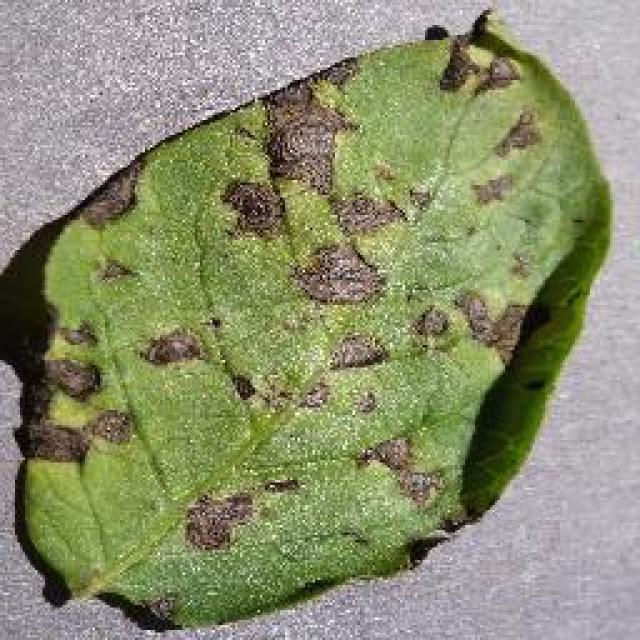early_blight: (2, 5, 618, 633)
